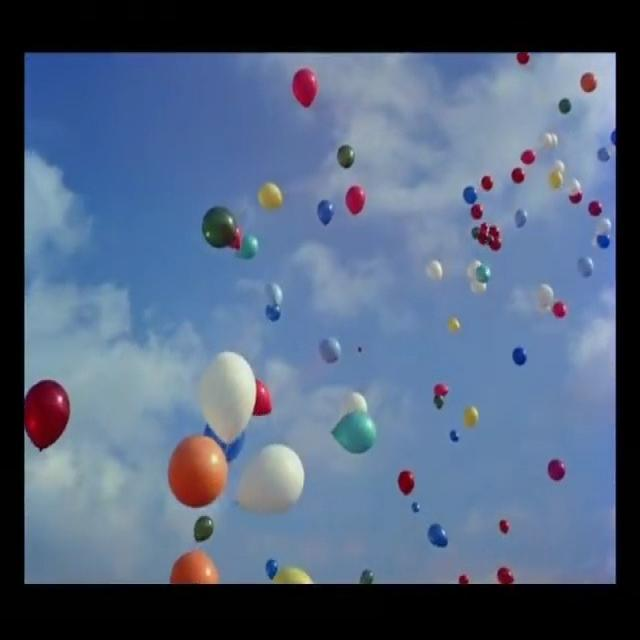balloon: (200, 352, 255, 443), (234, 444, 306, 513), (169, 436, 226, 506), (23, 377, 70, 451), (171, 548, 219, 586), (333, 414, 378, 453), (202, 423, 246, 462), (200, 207, 236, 246), (291, 66, 318, 106), (250, 379, 273, 417), (272, 565, 315, 585), (343, 392, 369, 416), (192, 513, 215, 540), (319, 337, 341, 364), (345, 189, 365, 217), (260, 184, 283, 208), (546, 460, 569, 481), (429, 526, 450, 548), (264, 283, 284, 305), (338, 143, 354, 170), (400, 469, 414, 495), (319, 200, 333, 225), (266, 306, 284, 325), (464, 408, 482, 427), (536, 283, 554, 302), (496, 567, 516, 584), (425, 259, 441, 280), (432, 379, 451, 395), (242, 237, 257, 257), (512, 345, 527, 365), (581, 71, 595, 91), (478, 264, 492, 284), (229, 229, 241, 251), (264, 556, 276, 578), (581, 257, 594, 277), (542, 132, 558, 148), (471, 279, 487, 295), (553, 304, 568, 321), (464, 184, 476, 204), (496, 520, 513, 534), (468, 261, 481, 279), (357, 567, 372, 582), (447, 317, 461, 332), (598, 218, 612, 233), (454, 571, 470, 584), (479, 232, 492, 248), (482, 175, 494, 192), (538, 300, 550, 316), (595, 235, 611, 247), (521, 150, 537, 162), (488, 224, 502, 237), (558, 98, 570, 113), (516, 212, 527, 228), (571, 176, 583, 190), (555, 160, 567, 174), (551, 170, 560, 188), (597, 148, 610, 160), (512, 168, 524, 181), (515, 54, 530, 64), (568, 194, 583, 204), (471, 208, 486, 218), (589, 202, 601, 214), (472, 227, 482, 240), (433, 398, 445, 408), (413, 503, 422, 513), (480, 223, 489, 233), (449, 432, 459, 440), (494, 240, 502, 250), (611, 129, 615, 146), (358, 347, 362, 358)
